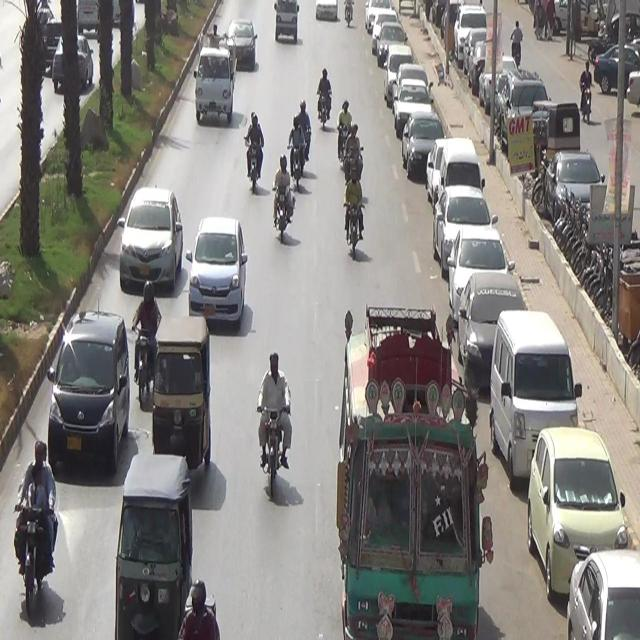car: (54, 305, 128, 458), (184, 208, 250, 330), (111, 185, 180, 295), (223, 5, 261, 75)
motorbike: (13, 439, 60, 610), (250, 342, 299, 494), (138, 274, 163, 399), (239, 108, 270, 200), (345, 165, 372, 260), (288, 101, 311, 196), (272, 149, 292, 253), (348, 130, 370, 200), (319, 61, 335, 132), (338, 96, 353, 160)
truck: (188, 31, 239, 132)
